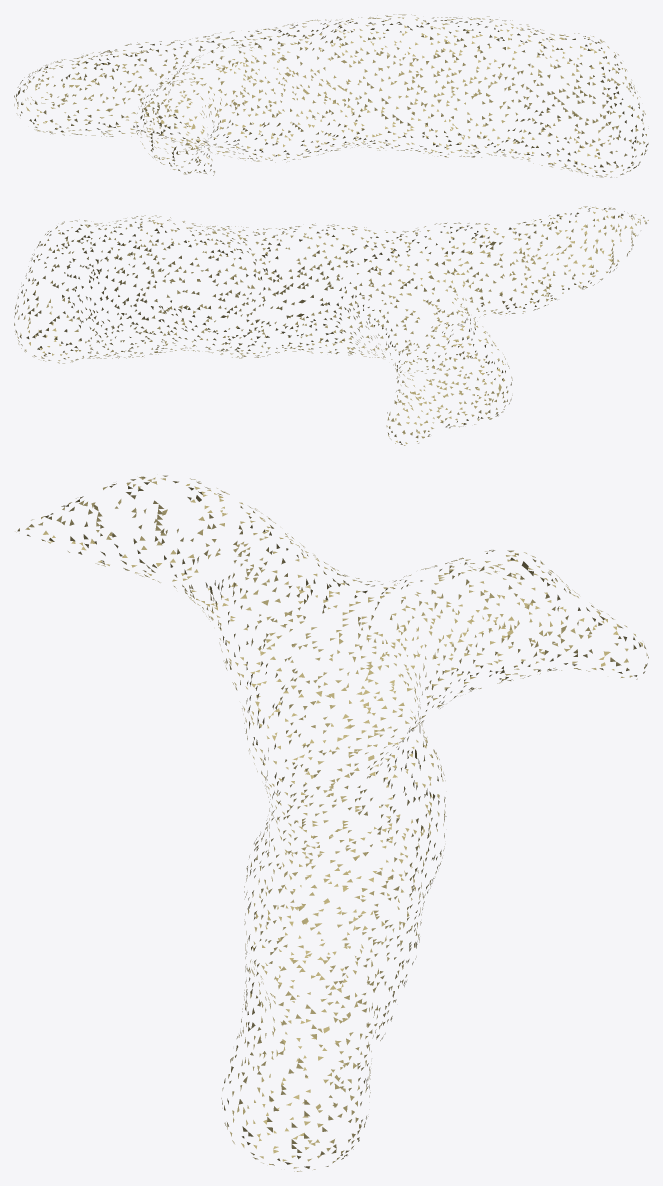
Rendered from morph_008.glb.
3 renders of one model, top to bottom at view 1: azimuth 30°, elevation 25°; view 2: azimuth 150°, elevation 25°; view 3: azimuth 270°, elevation 25°, orthographic. The views are drawn at different scales.
Bounding box in the file's own units: 111 × 44.3 × 74.57.
